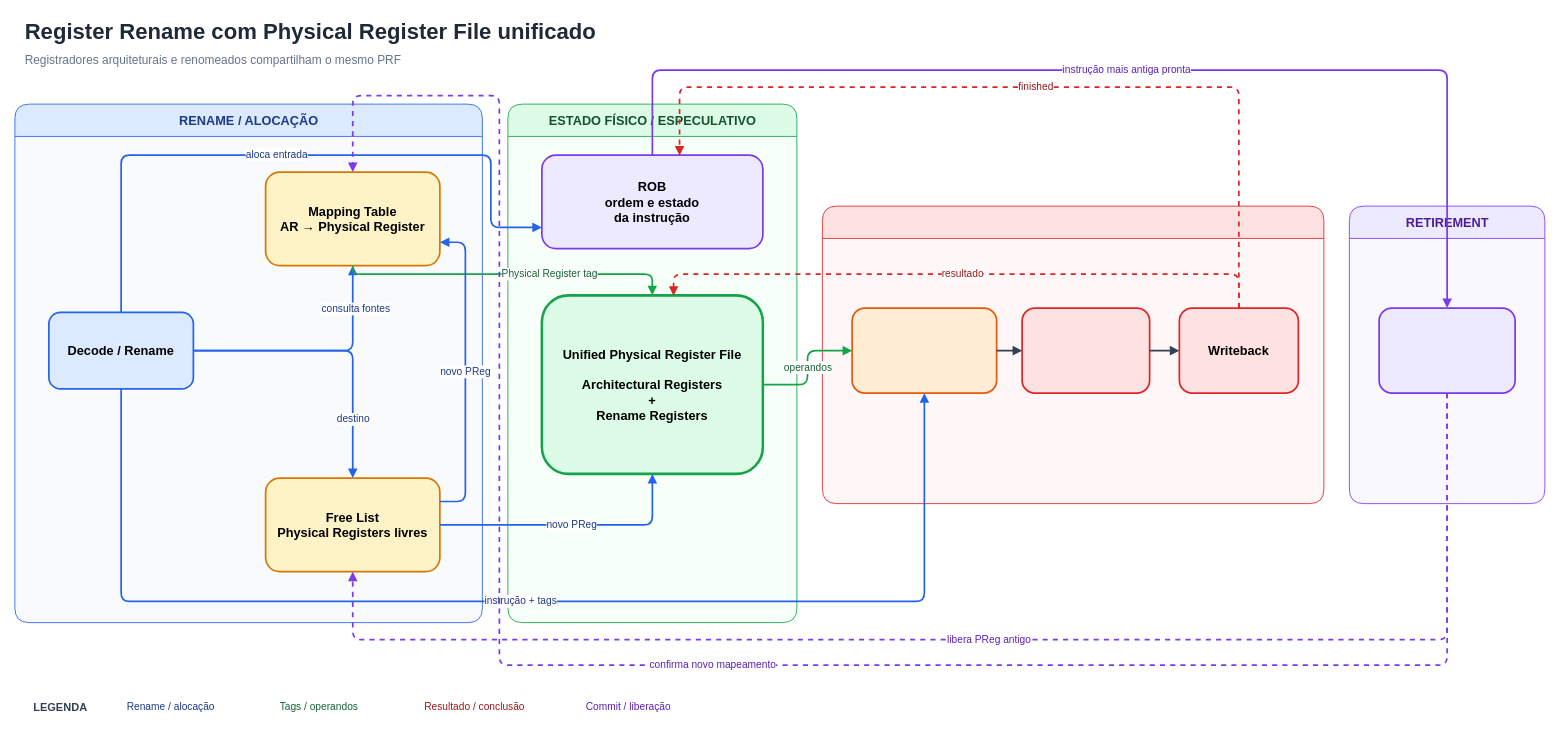
This 1560x730 diagram has some shape labels left out. The box of each missing label's shape, as (x1, y1, x2, y2) in pixels:
Commit / Retirement: (1378, 307, 1516, 394)
Execution Units: (1021, 307, 1150, 394)
ISSUE / EXECUÇÃO / WRITEBACK: (822, 205, 1324, 504)
Reservation Stations: (851, 307, 997, 394)
